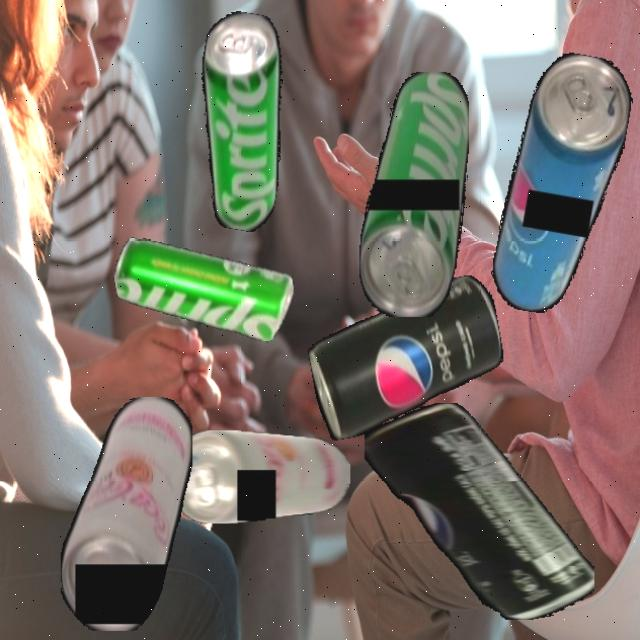debris: (363, 403, 594, 620), (486, 47, 639, 322), (301, 273, 512, 442), (60, 396, 192, 631), (108, 212, 302, 366), (175, 7, 306, 235), (358, 71, 469, 317), (169, 429, 350, 524)
